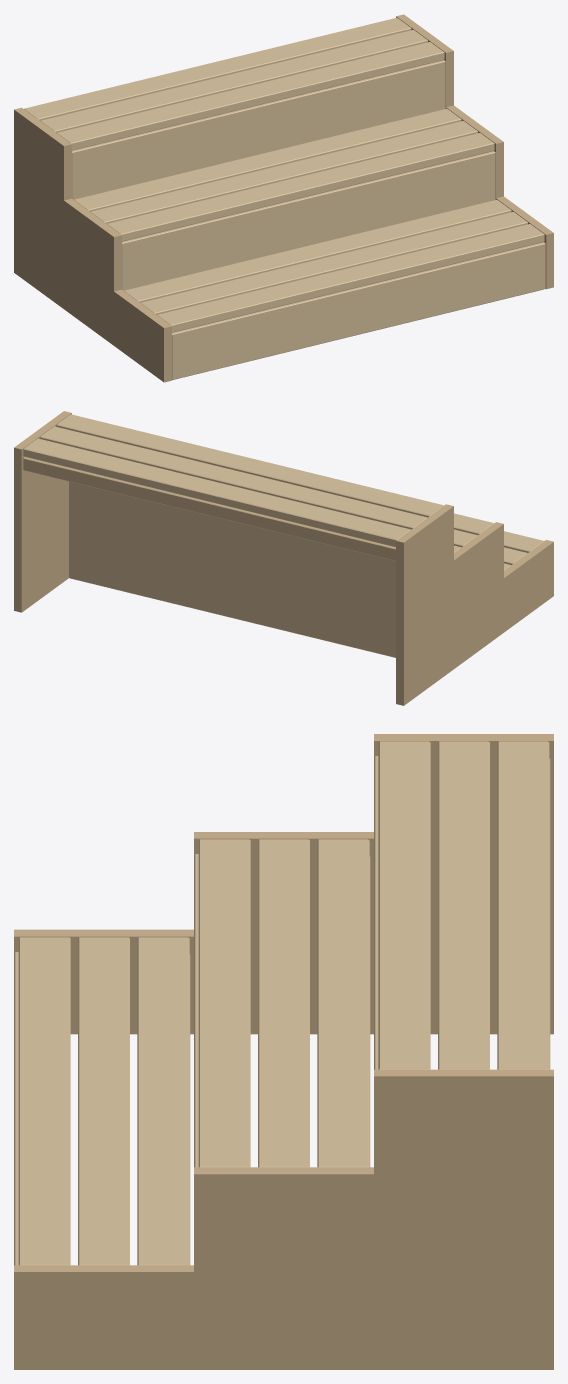
The model's file is fresh-produce-and-groceries-tiered-produce-riser-ccf4285b__24453.glb.
The picture shows the model from 3 angles, top to bottom: view 1: azimuth 30°, elevation 25°; view 2: azimuth 150°, elevation 25°; view 3: azimuth 270°, elevation 25°; orthographic projection. The views are drawn at different scales.
Visible parts, largest first — view 1: tiered-produce-riser; view 2: tiered-produce-riser; view 3: tiered-produce-riser.
Part boxes in pixels (<box>): tiered-produce-riser: <box>14,14,553,382</box>; tiered-produce-riser: <box>14,411,553,705</box>; tiered-produce-riser: <box>14,734,553,1369</box>.
Bounding box in the file's own units: 0.9 × 0.36 × 0.6.
